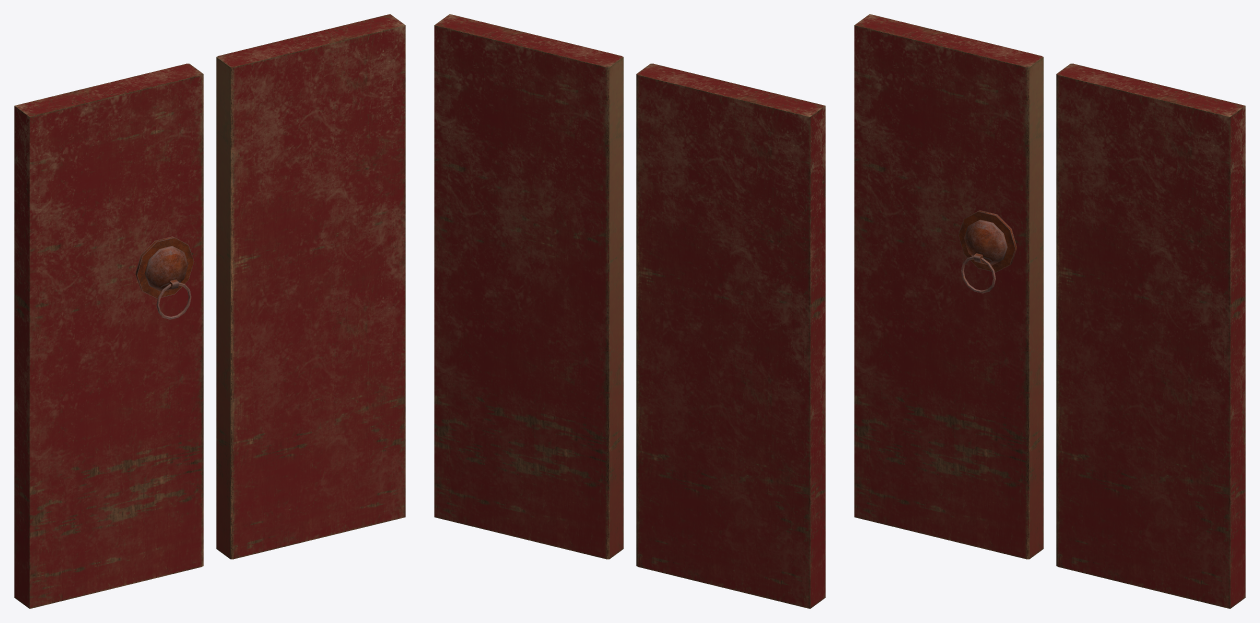
The model's file is hutong_door_b.fbx.
3 views of the same model, side by side, from view 1: azimuth 30°, elevation 25°; view 2: azimuth 150°, elevation 25°; view 3: azimuth 330°, elevation 25° (orthographic).
Visible parts, largest first — view 1: door_b_r, door_b_l, door_knock_a; view 2: door_b_l, door_b_r; view 3: door_b_r, door_b_l, door_knock_a.
Part boxes in pixels (<box>): door_b_r: <box>216,14,405,559</box>; door_b_l: <box>14,63,203,608</box>; door_knock_a: <box>135,236,194,319</box>; door_b_l: <box>636,63,825,608</box>; door_b_r: <box>434,14,623,559</box>; door_b_r: <box>1056,63,1245,608</box>; door_b_l: <box>854,14,1043,559</box>; door_knock_a: <box>958,210,1016,293</box>.
Size of the model in its own units: 140 by 175 by 17.68.
Materials: 2 (2 with a texture image).
